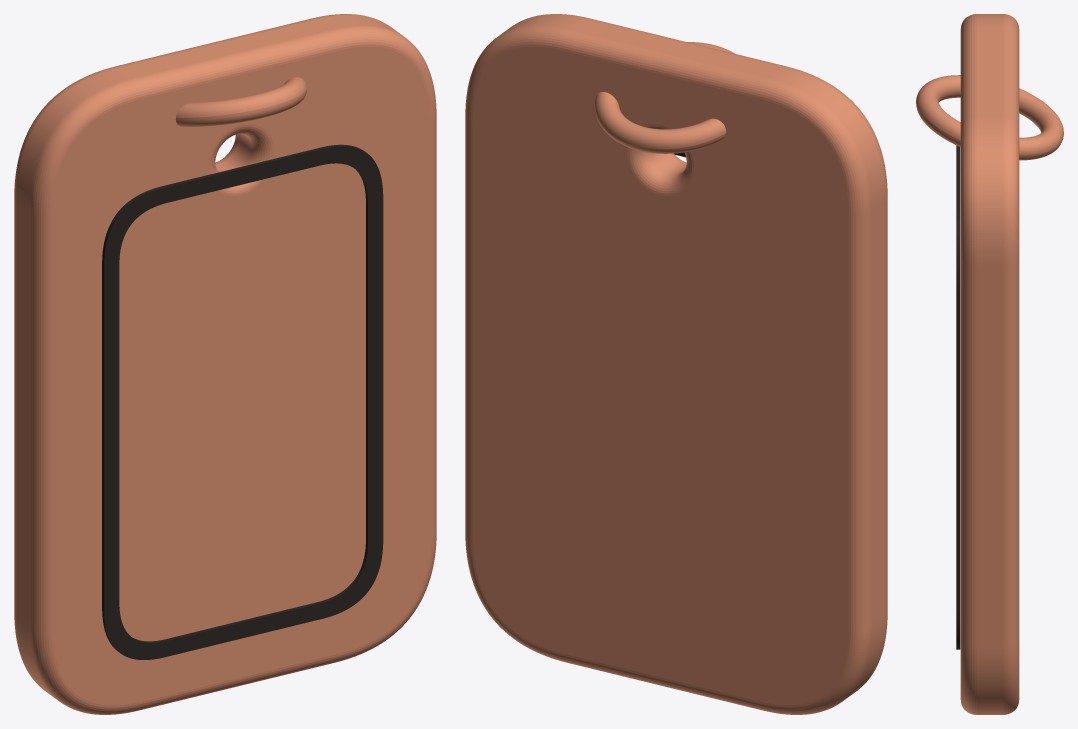
File: tag.glb
3 renders of one model, left to right at view 1: azimuth 30°, elevation 25°; view 2: azimuth 150°, elevation 25°; view 3: azimuth 270°, elevation 25°, orthographic. The views are drawn at different scales.
Visible parts, largest first — view 1: tag; view 2: tag; view 3: tag.
Part boxes in pixels (bbox=[...]): tag: bbox=[14, 14, 436, 714]; tag: bbox=[465, 14, 887, 714]; tag: bbox=[916, 14, 1063, 714].
Size of the model in its own units: 1.33 by 1.99 by 0.4562.
